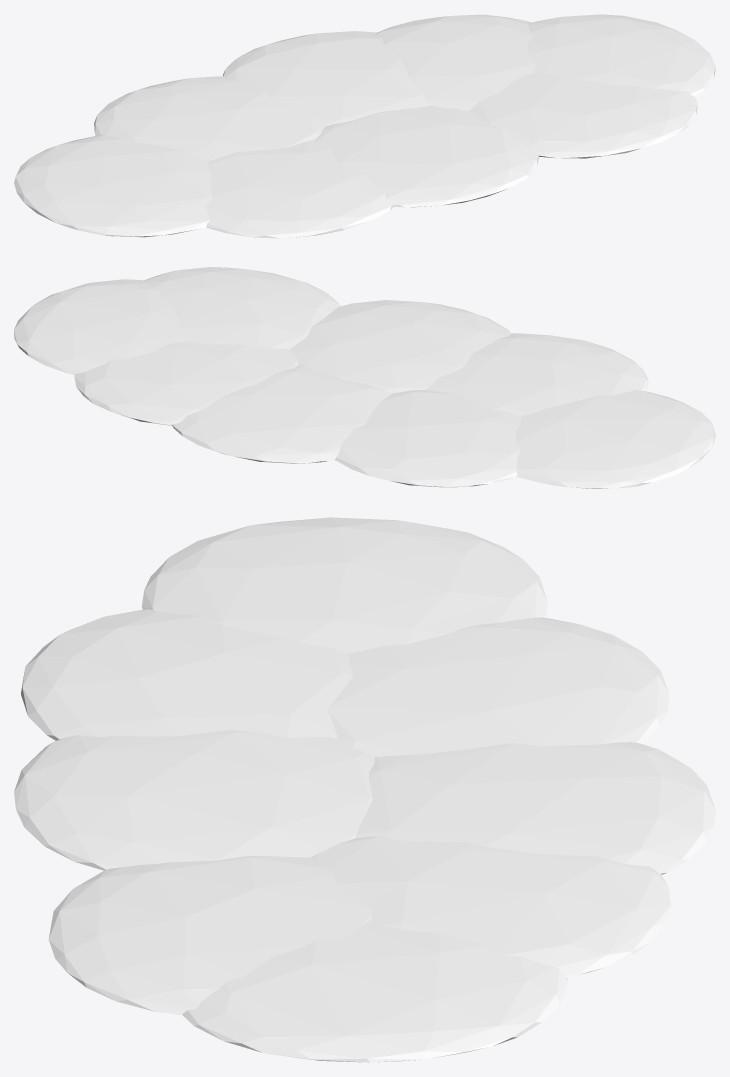
File: thoughtbubble.fbx
The picture shows the model from 3 angles, top to bottom: view 1: azimuth 30°, elevation 25°; view 2: azimuth 150°, elevation 25°; view 3: azimuth 270°, elevation 25°; orthographic projection. The views are drawn at different scales.
Visible parts, largest first — view 1: Cube.007; view 2: Cube.007; view 3: Cube.007.
Part boxes in pixels (x1=…): Cube.007: x1=14, y1=14, x2=715, y2=238; Cube.007: x1=14, y1=267, x2=715, y2=488; Cube.007: x1=14, y1=517, x2=715, y2=1062.
Bounding box in the file's own units: 533 × 10.82 × 291.
1 material, 1 textured.
